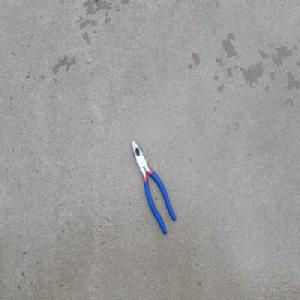Pliers: (129, 137, 176, 238)
